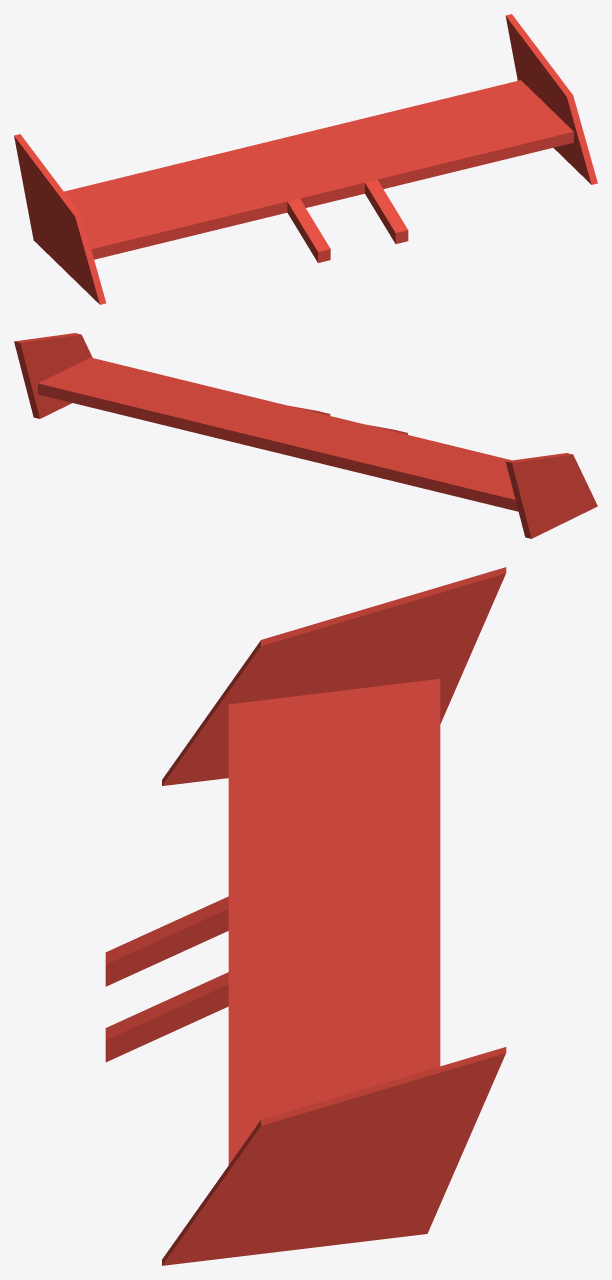
File: spojler lvl 1.fbx
3 views of the same model, one above another, from view 1: azimuth 30°, elevation 25°; view 2: azimuth 150°, elevation 25°; view 3: azimuth 270°, elevation 25° (orthographic). The views are drawn at different scales.
Parts seen in each view (by area): view 1: Plane; view 2: Plane; view 3: Plane.
Part boxes in pixels (bbox=[...]): Plane: bbox=[14, 14, 597, 304]; Plane: bbox=[14, 333, 597, 538]; Plane: bbox=[105, 567, 506, 1265].
Bounding box in the file's own units: 150 × 30.66 × 52.25.
